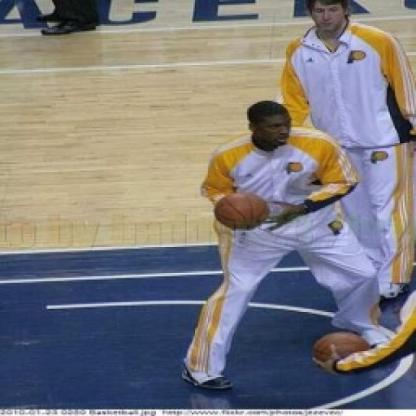basketball: (314, 330, 367, 371), (215, 191, 270, 230)
